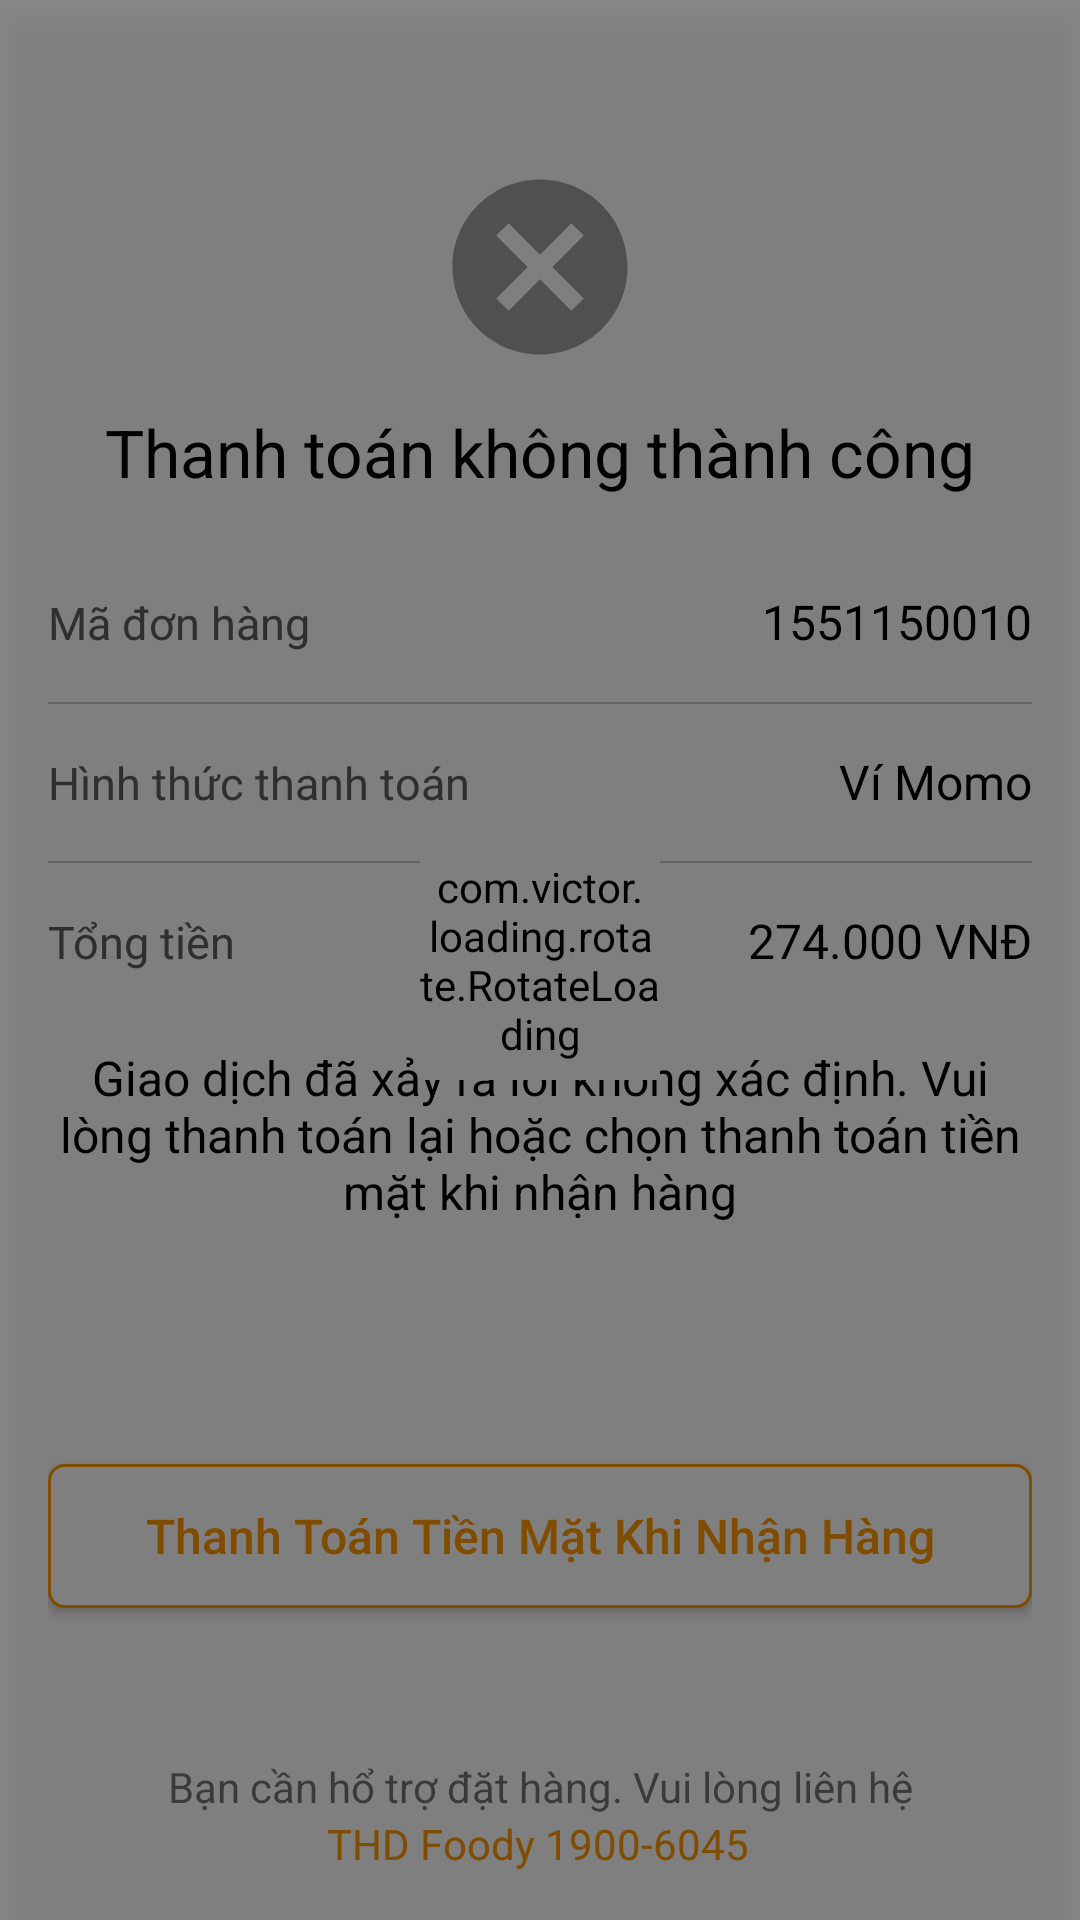

Named icons in this screenshot (1080px x 1920px) and their bounding boxes, (x1, y1, x2, y2):
payment failed: (452, 180, 627, 354)
